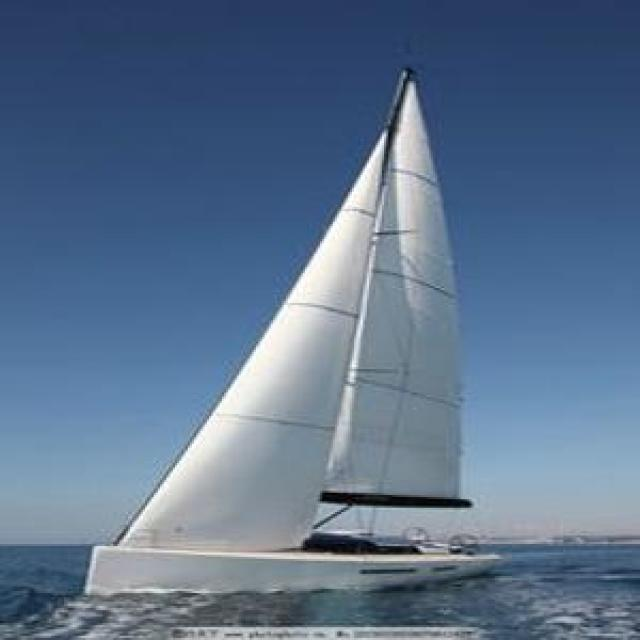sailboat: (84, 67, 503, 587)
